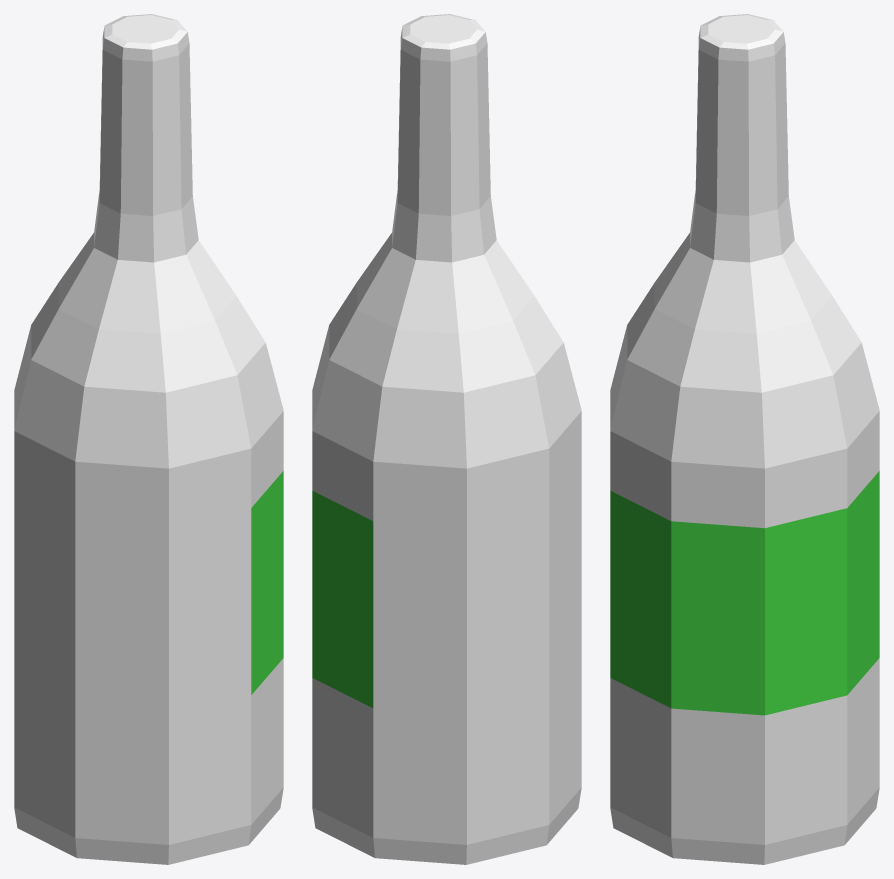
The model's file is prop_pullo.fbx.
3 views of the same model, side by side, from view 1: azimuth 30°, elevation 25°; view 2: azimuth 150°, elevation 25°; view 3: azimuth 270°, elevation 25° (orthographic).
Visible parts, largest first — view 1: Cylinder; view 2: Cylinder; view 3: Cylinder.
Boxes of the visible parts, x1=… form: Cylinder: x1=14, y1=14, x2=283, y2=864; Cylinder: x1=312, y1=14, x2=581, y2=864; Cylinder: x1=610, y1=14, x2=879, y2=864.
Size of the model in its own units: 26.34 by 83.21 by 25.94.
